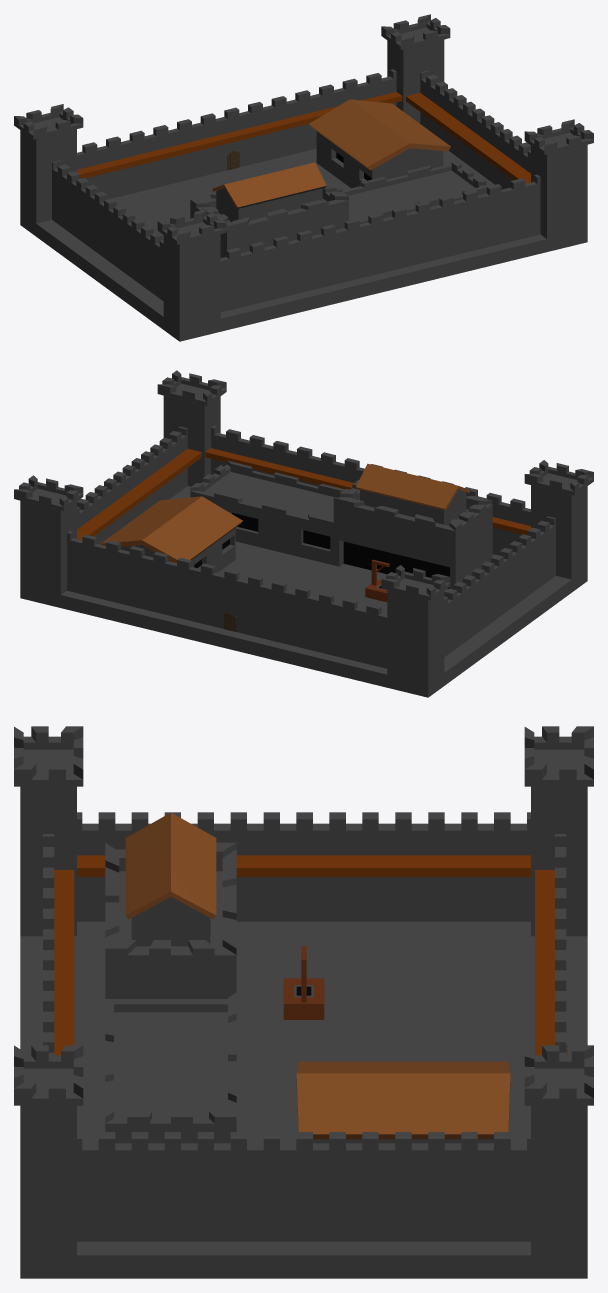
The picture shows the model from 3 angles, top to bottom: view 1: azimuth 30°, elevation 25°; view 2: azimuth 150°, elevation 25°; view 3: azimuth 270°, elevation 25°; orthographic projection. The views are drawn at different scales.
Visible parts, largest first — view 1: Cube.001; view 2: Cube.001; view 3: Cube.001.
Boxes of the visible parts, x1,y1,x2,y2 form: Cube.001: (14, 14, 593, 341); Cube.001: (14, 370, 593, 697); Cube.001: (14, 726, 593, 1278).
Bounding box in the file's own units: 3020 × 754 × 2044.
